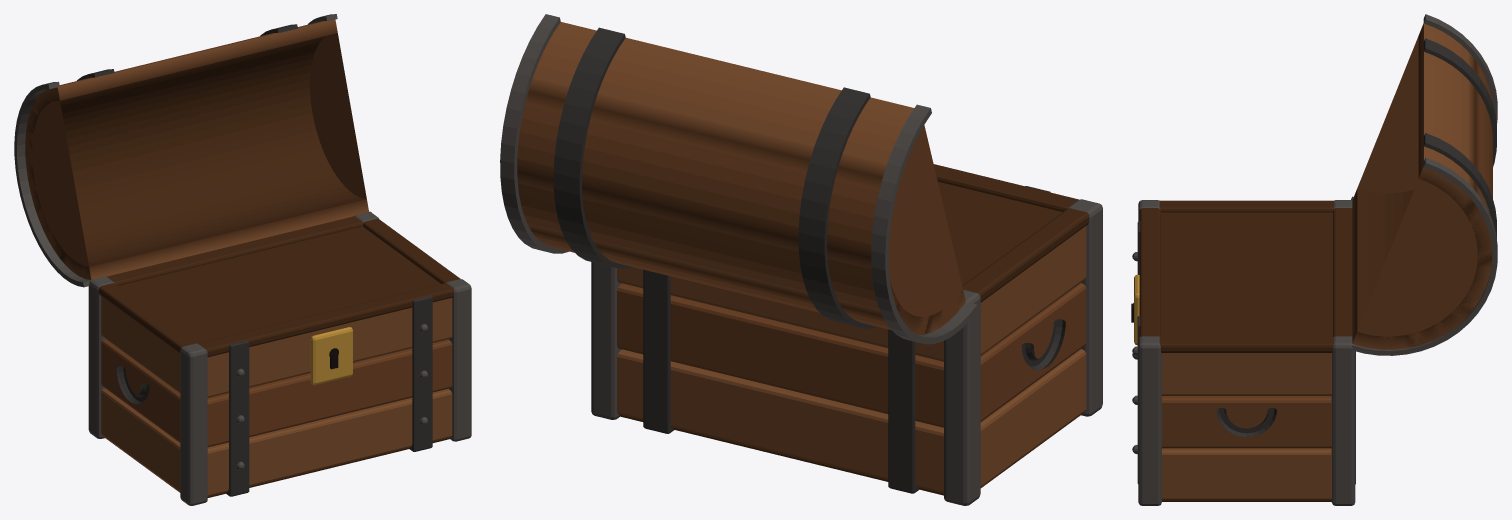
Rendered from chest.glb.
The picture shows the model from 3 angles, left to right: view 1: azimuth 30°, elevation 25°; view 2: azimuth 150°, elevation 25°; view 3: azimuth 270°, elevation 25°; orthographic projection. The views are drawn at different scales.
Parts seen in each view (by area): view 1: Chest; view 2: Chest; view 3: Chest.
Boxes of the visible parts, x1,y1,x2,y2 form: Chest: (14, 14, 471, 505); Chest: (500, 14, 1102, 505); Chest: (1131, 14, 1497, 505).
Size of the model in its own units: 1.08 by 1.12 by 1.08.
